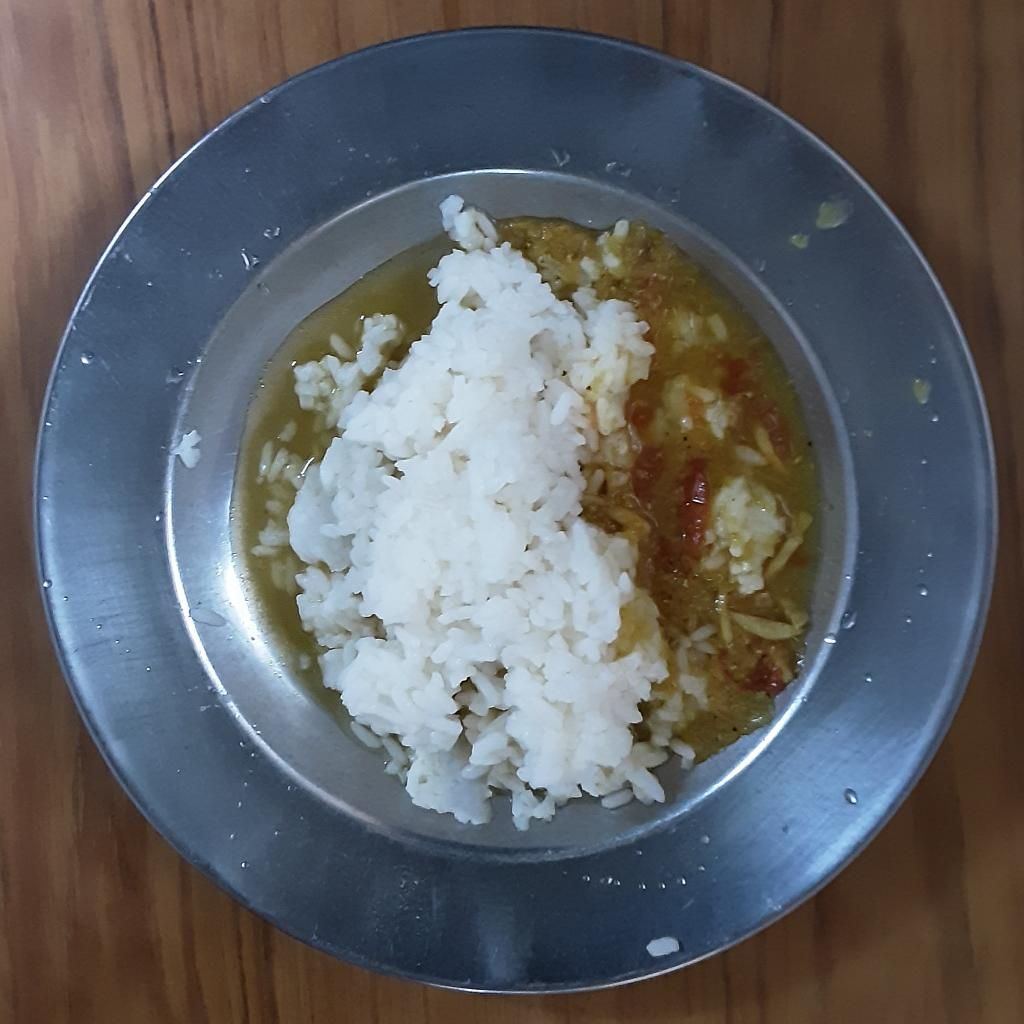daal: (589, 430, 829, 620), (228, 357, 342, 726), (612, 223, 808, 422), (277, 233, 440, 353), (759, 484, 847, 629), (684, 642, 772, 756)
potato: (720, 506, 812, 646)
rice: (259, 194, 720, 837), (700, 477, 778, 588), (659, 376, 731, 445), (676, 305, 729, 345)
tomato: (720, 349, 798, 456), (674, 461, 711, 547), (632, 437, 669, 500), (744, 663, 786, 699)
